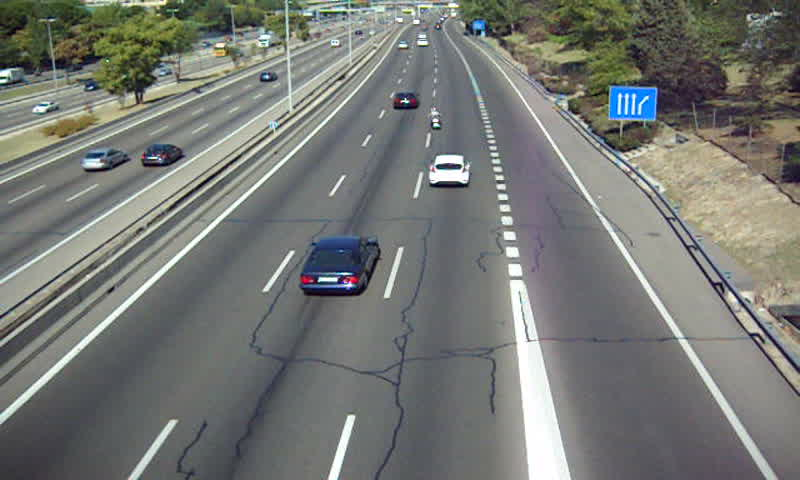car: (298, 237, 377, 296), (429, 155, 469, 188), (391, 92, 420, 111)
motorcycle: (428, 106, 444, 132)
